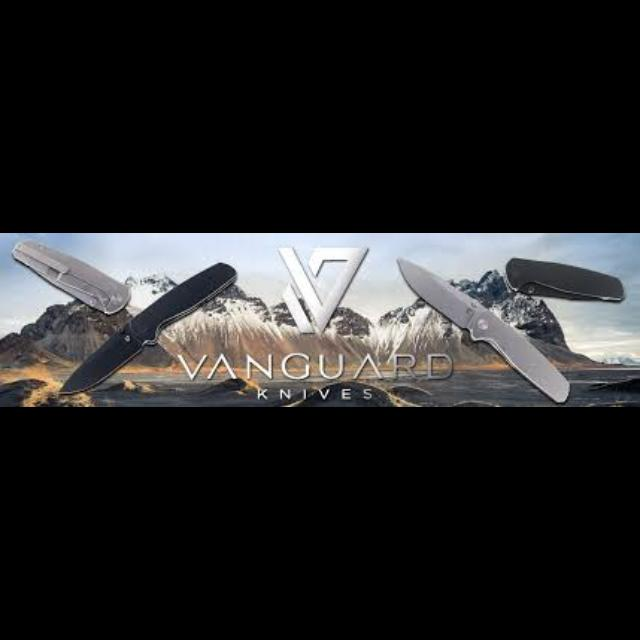Knife: (395, 255, 571, 402), (57, 262, 237, 394)
